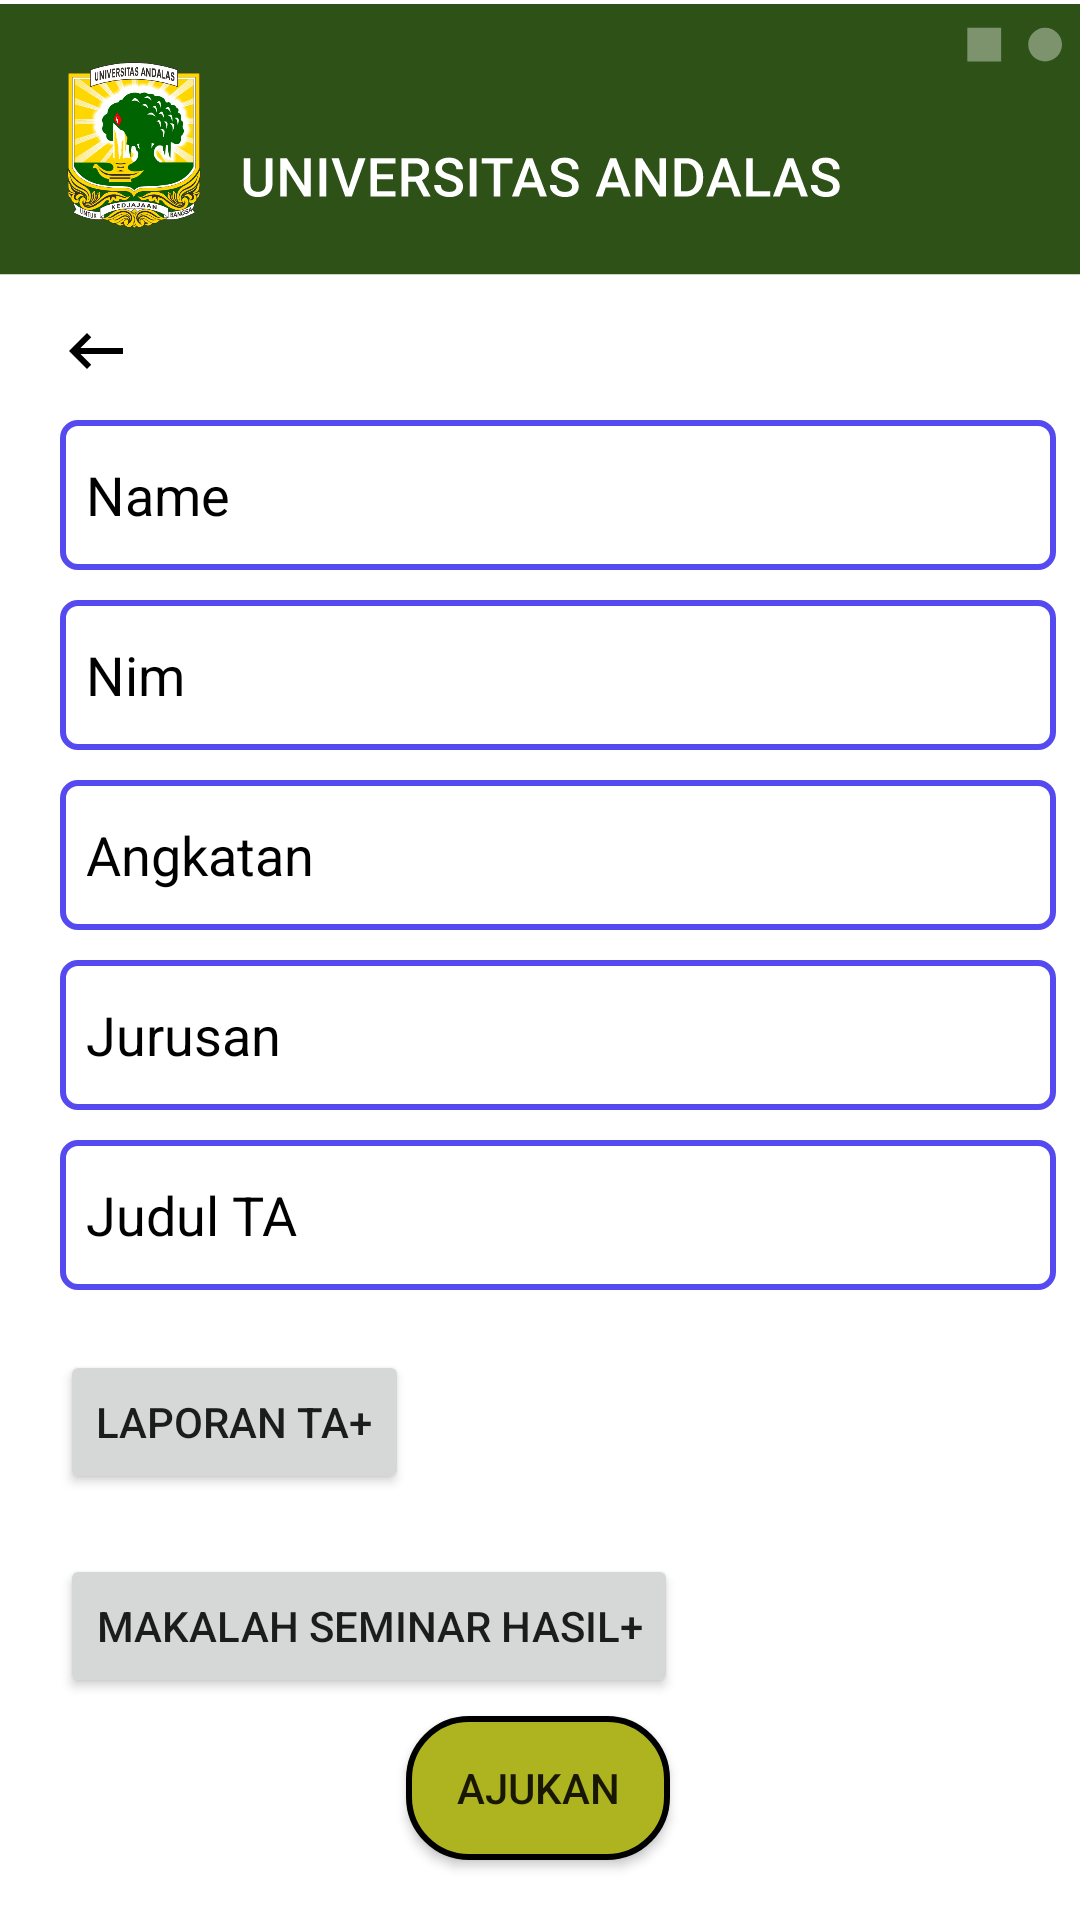

Screen size 1080px×1920px. Icon name, then its box in pixels as (x1, y1, x2, y2):
back: (69, 333, 123, 369)
